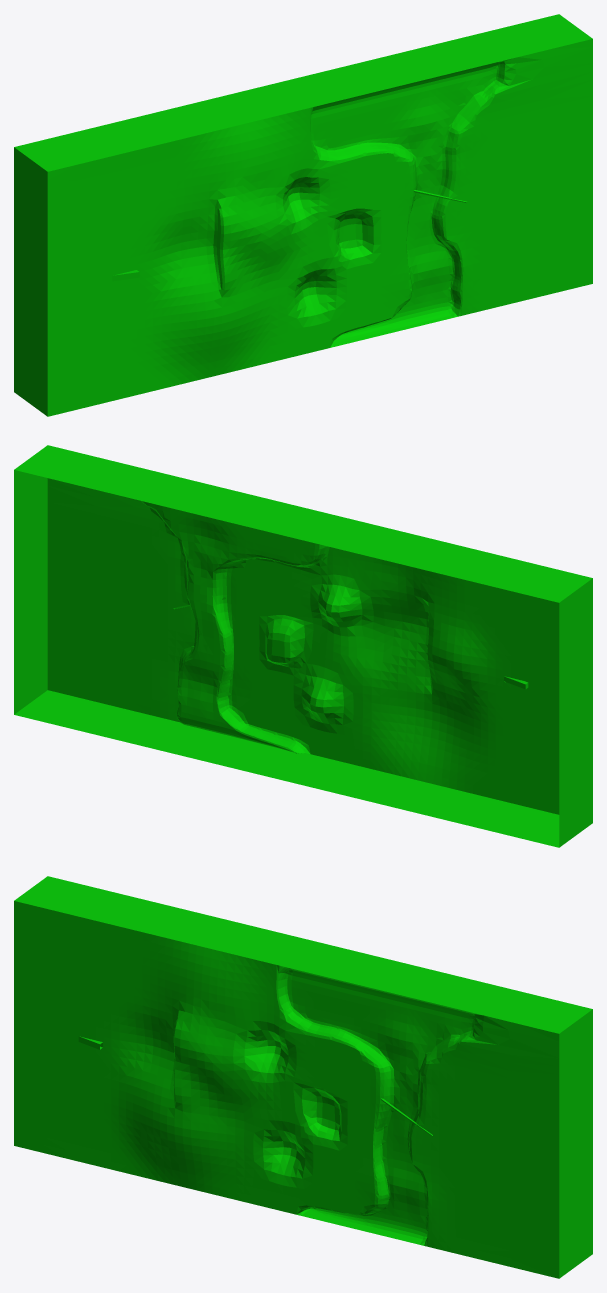
File: woods_0001_dec.obj
The picture shows the model from 3 angles, top to bottom: view 1: azimuth 30°, elevation 25°; view 2: azimuth 150°, elevation 25°; view 3: azimuth 330°, elevation 25°; orthographic projection.
Visible parts, largest first — view 1: level_1.075_Cube.1959; view 2: level_1.075_Cube.1959; view 3: level_1.075_Cube.1959.
Part boxes in pixels (<box>): level_1.075_Cube.1959: <box>14,14,592,416</box>; level_1.075_Cube.1959: <box>14,445,592,847</box>; level_1.075_Cube.1959: <box>14,876,592,1278</box>.
Bounding box in the file's own units: 3726 × 1600 × 502.
